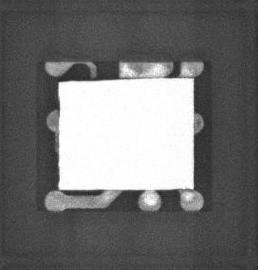DIE_BROKEN: (58, 78, 129, 84)
